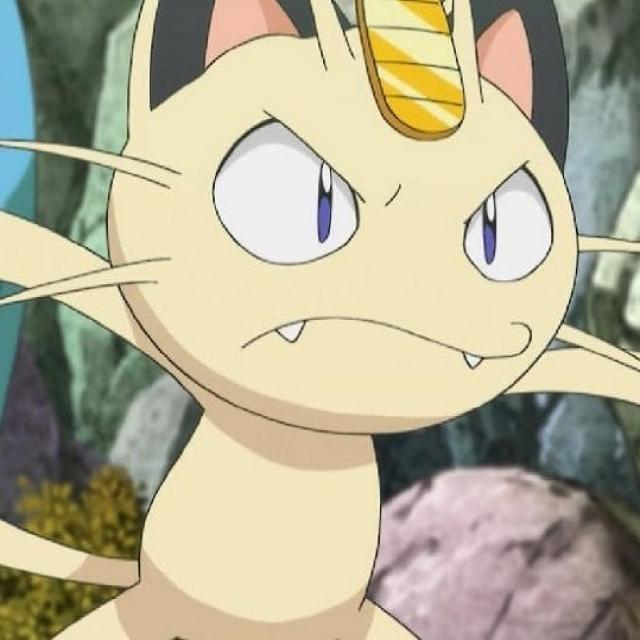Meowth: (88, 0, 578, 640)
